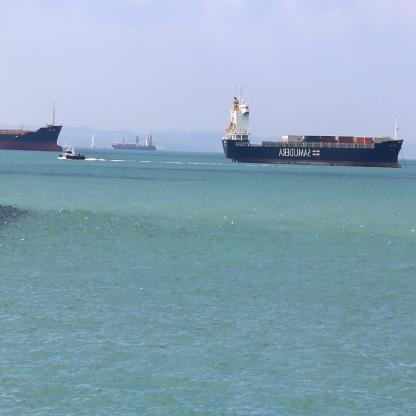Container Ship: (222, 84, 404, 169), (0, 103, 62, 153), (111, 135, 157, 152)
